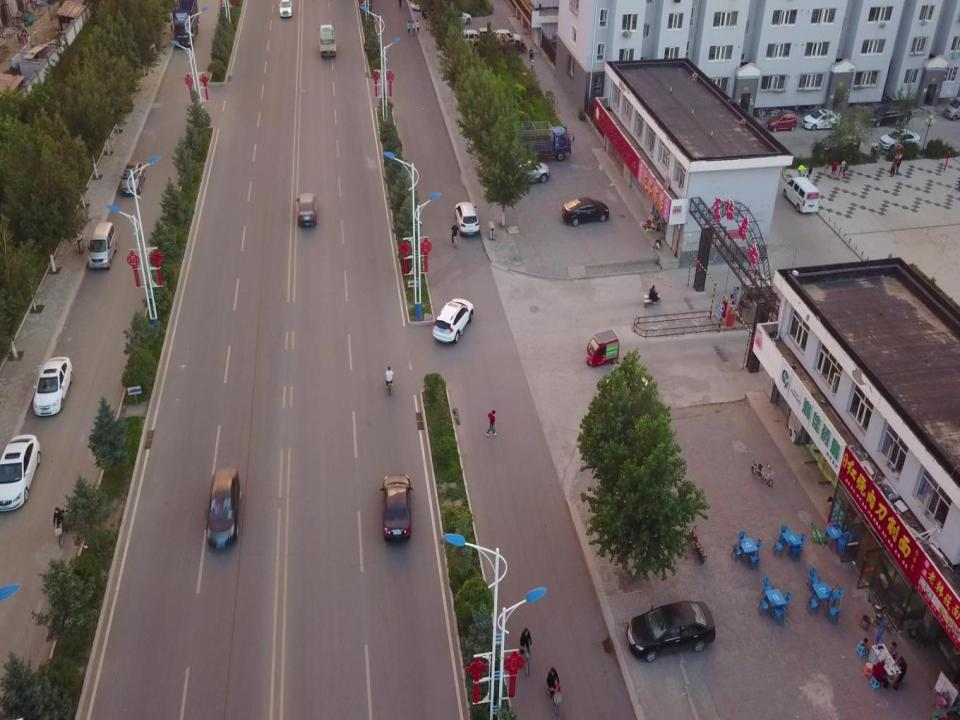car: (626, 602, 716, 662), (0, 434, 40, 512), (206, 468, 242, 548), (33, 357, 72, 415), (380, 474, 413, 542), (598, 372, 649, 408), (561, 197, 610, 226), (501, 159, 551, 184), (879, 129, 920, 152), (802, 109, 841, 131), (120, 162, 146, 193), (296, 193, 318, 228), (866, 107, 904, 127), (766, 110, 796, 132), (439, 12, 472, 25), (279, 0, 292, 17)
truck: (506, 119, 574, 161), (170, 0, 199, 47), (318, 24, 336, 56)
van: (432, 298, 474, 342), (782, 177, 820, 213), (88, 222, 117, 269), (820, 129, 860, 155), (454, 29, 481, 49), (491, 29, 521, 46), (944, 97, 960, 120)
